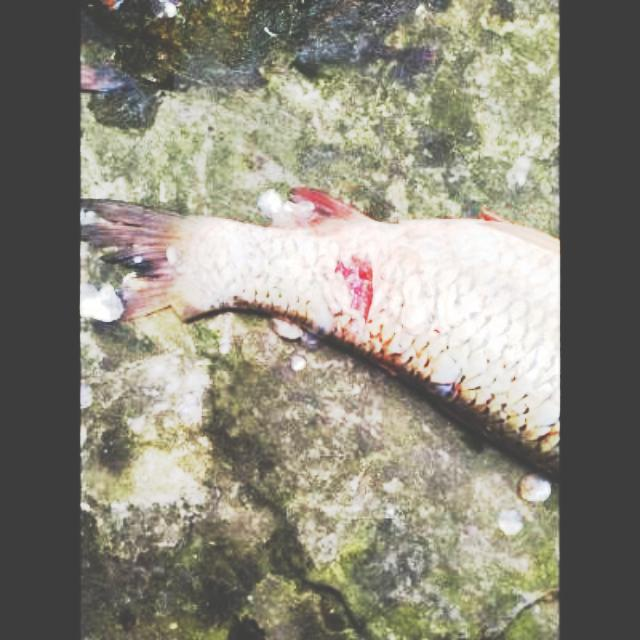Edwardsiella Ictaluri -Bacterial Red Disease-: (80, 187, 557, 475)
